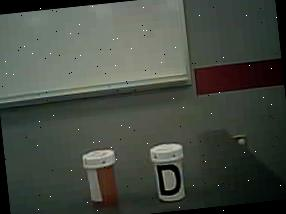Bottle D: (147, 137, 193, 209)
